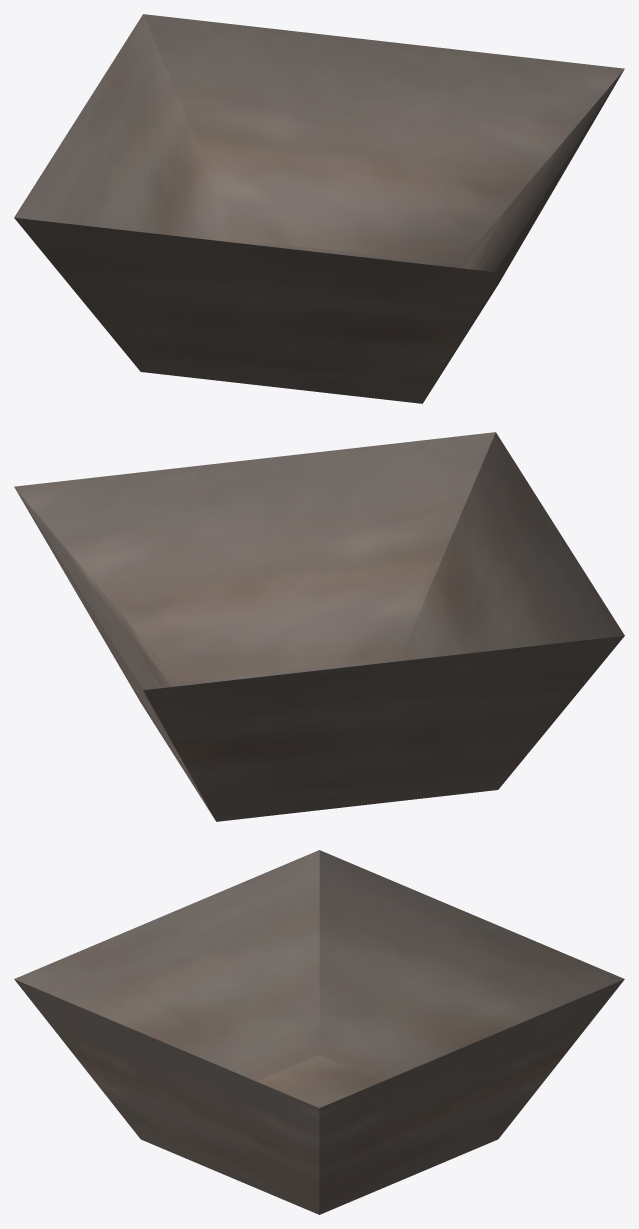
Rendered from Dish01.fbx.
3 views of the same model, one above another, from view 1: azimuth 30°, elevation 25°; view 2: azimuth 150°, elevation 25°; view 3: azimuth 270°, elevation 25° (orthographic). The views are drawn at different scales.
Visible parts, largest first — view 1: Dish01; view 2: Dish01; view 3: Dish01.
Part boxes in pixels (x1=…): Dish01: x1=14, y1=14, x2=624, y2=403; Dish01: x1=14, y1=432, x2=624, y2=821; Dish01: x1=14, y1=850, x2=624, y2=1214.
Size of the model in its own units: 0.3704 by 0.1072 by 0.3704.
